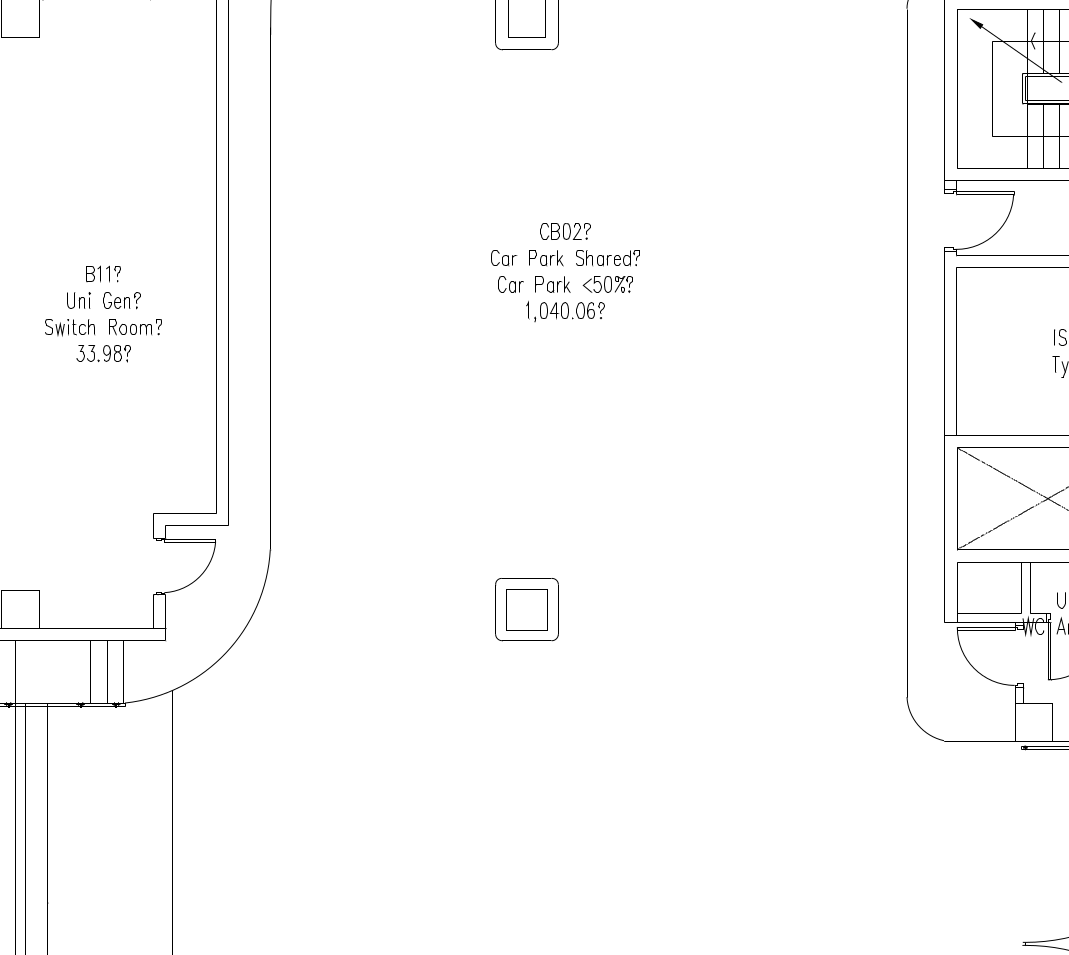door: (948, 622, 1022, 692), (953, 186, 1023, 252), (163, 533, 220, 595)
